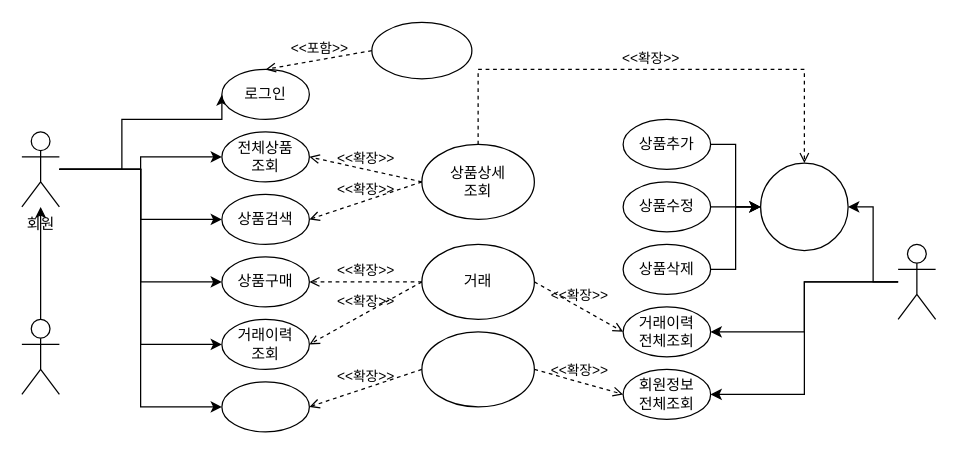
Some shapes in this 959 by 454 pixel diagram are drawn without their labels. Each missing label, with the centre of its shape:
"고객" goes at [40,356].
"관리자" goes at [916,281].
"내정보 조회" goes at [265,406].
"상품관리" goes at [803,206].
"회원가입" goes at [421,50].
"회원정보조회" goes at [477,369].
